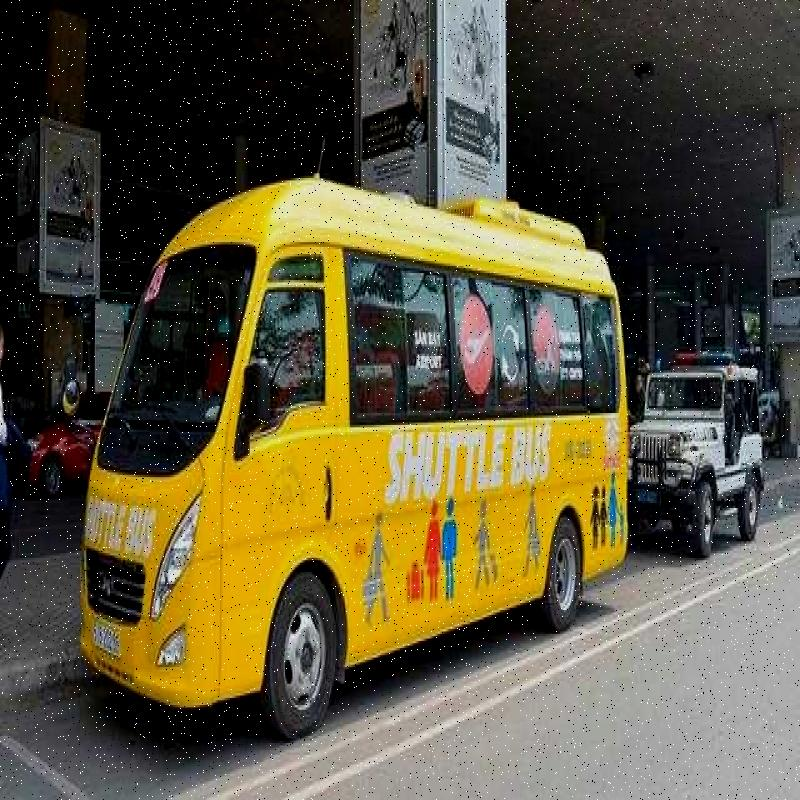bus: (77, 150, 621, 715)
